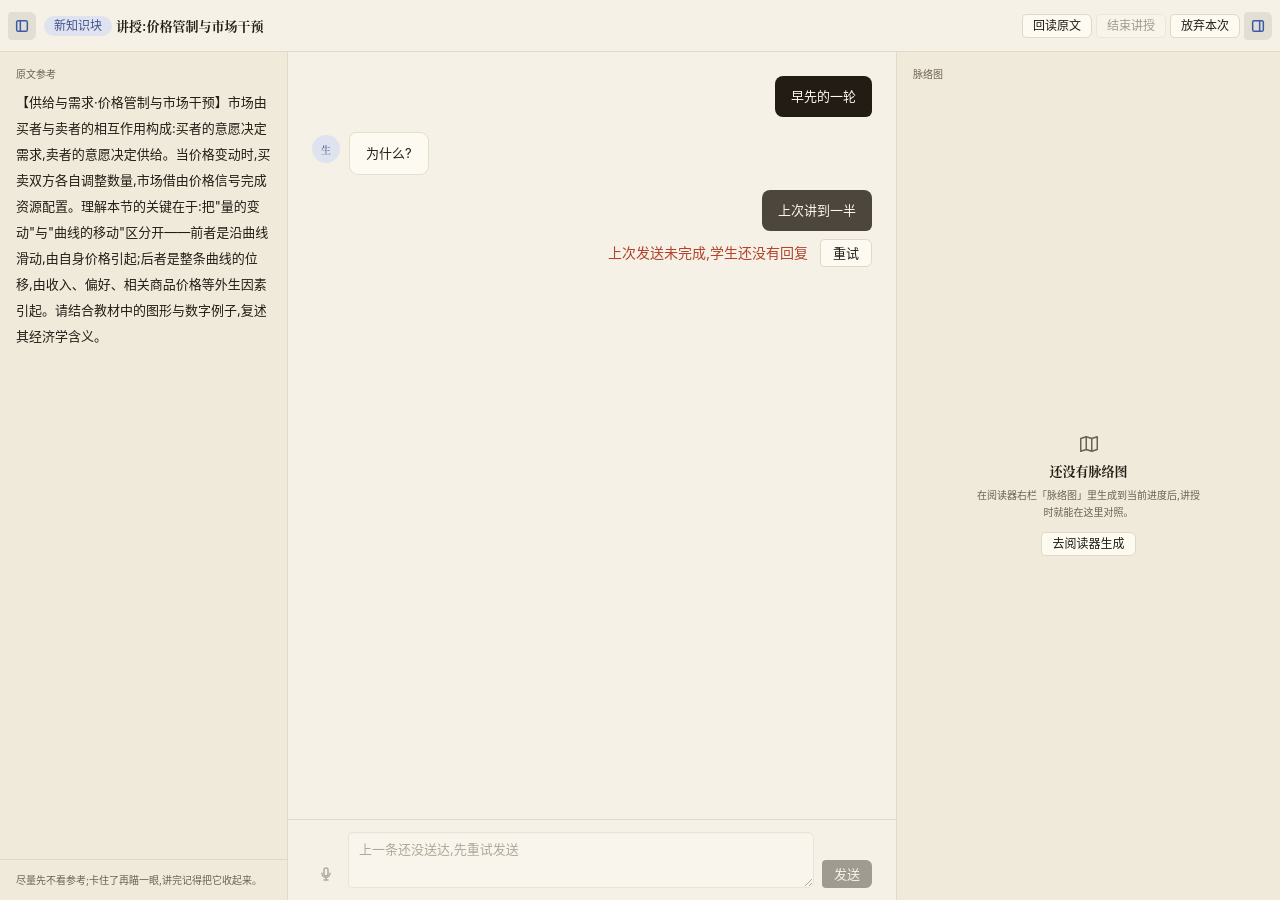
费曼对话页(契约 v2) › pending 回合水合:显示该消息与"上次发送未完成";重试用原 id 与水合版本
Expected: the text "上次讲到一半" is shown, left=762, top=190, right=872, bottom=231
Expected: the message shows "上次发送未完成", left=608, top=244, right=808, bottom=261
Step 1. Click the button "重试" → (846, 253), box left=820, top=239, right=872, bottom=267
Wait 8000 ms
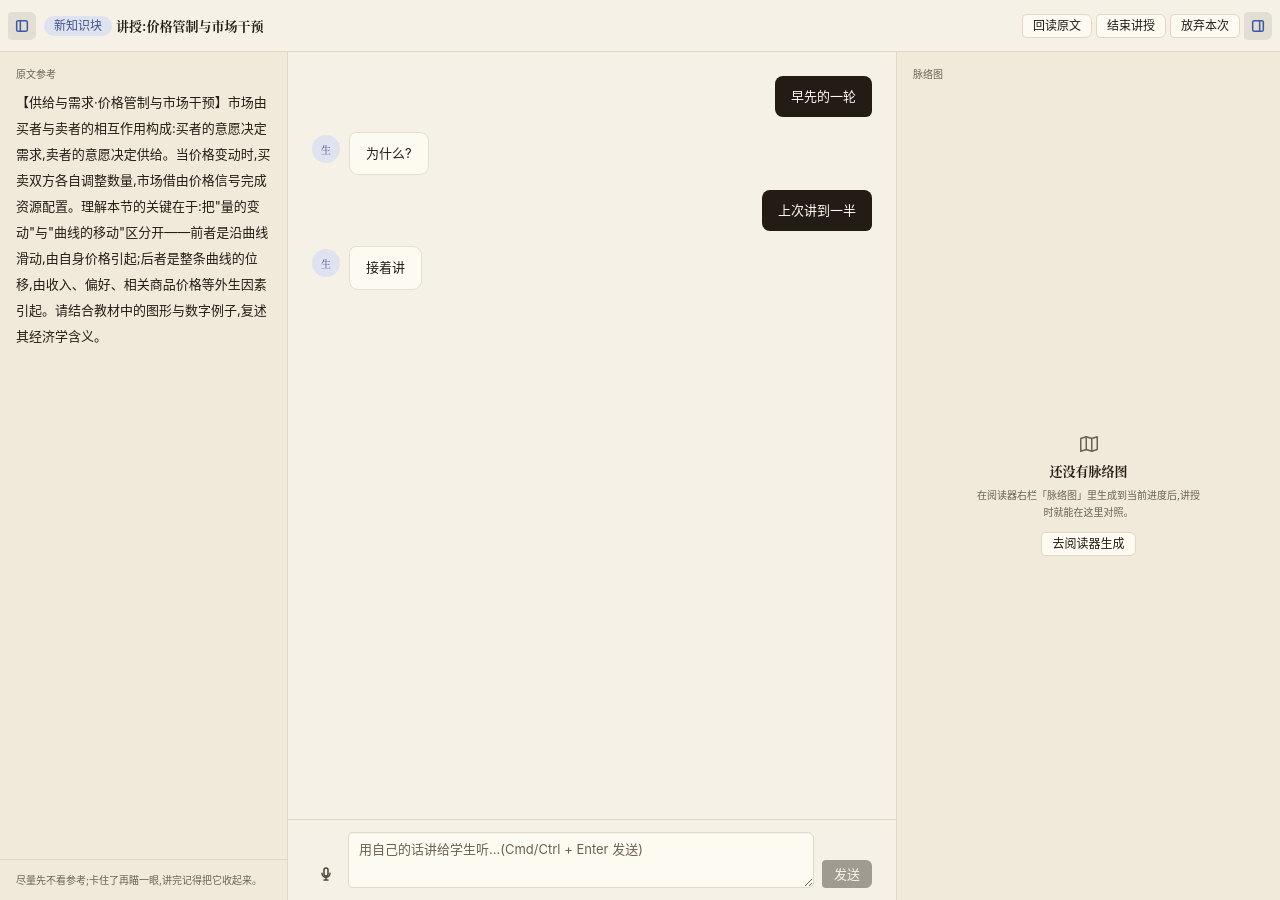
Expected: the text "接着讲" is shown, left=350, top=247, right=421, bottom=288
Expected: the message "上次发送未完成,学生还没有回复 重试" is gone
Expected: the text box is enabled, left=348, top=832, right=814, bottom=888
